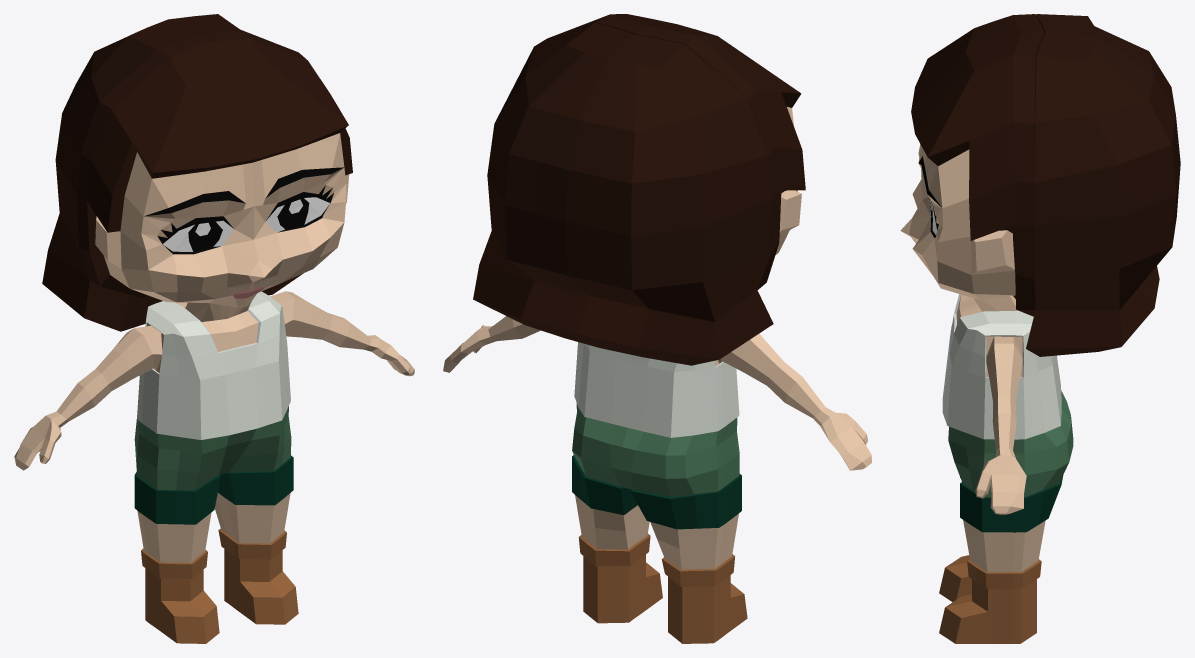
File: Cou_Cou_Sandy.fbx
The picture shows the model from 3 angles, left to right: view 1: azimuth 30°, elevation 25°; view 2: azimuth 150°, elevation 25°; view 3: azimuth 270°, elevation 25°; orthographic projection. The views are drawn at different scales.
Parts seen in each view (by area): view 1: Cou_Cou.001; view 2: Cou_Cou.001; view 3: Cou_Cou.001.
Boxes of the visible parts, <box> form: Cou_Cou.001: <box>14,14,414,643</box>; Cou_Cou.001: <box>443,14,871,643</box>; Cou_Cou.001: <box>900,14,1180,643</box>.
Size of the model in its own units: 117 by 160 by 70.
